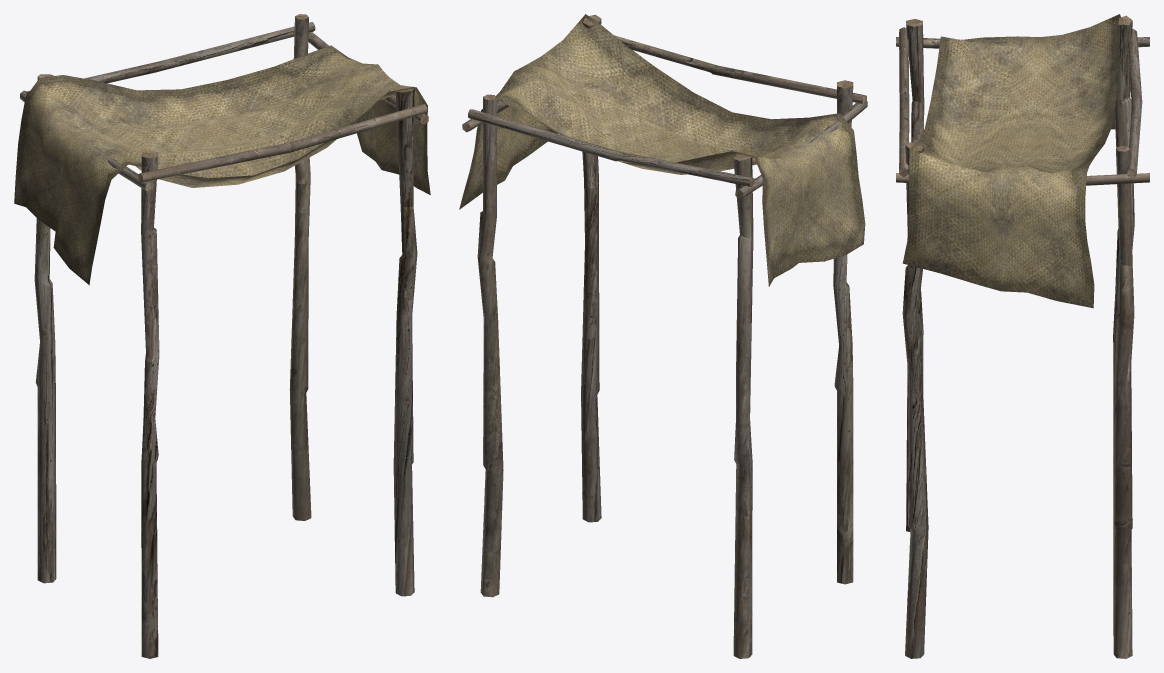
The model's file is Fabric1.fbx.
3 renders of one model, left to right at view 1: azimuth 30°, elevation 25°; view 2: azimuth 150°, elevation 25°; view 3: azimuth 270°, elevation 25°, orthographic. The views are drawn at different scales.
Visible parts, largest first — view 1: polySurface8; view 2: polySurface8; view 3: polySurface8.
Boxes of the visible parts, x1=… form: polySurface8: x1=14, y1=14, x2=430, y2=658; polySurface8: x1=459, y1=14, x2=867, y2=658; polySurface8: x1=896, y1=14, x2=1149, y2=658.
Size of the model in its own units: 2.68 by 3.78 by 1.7.
